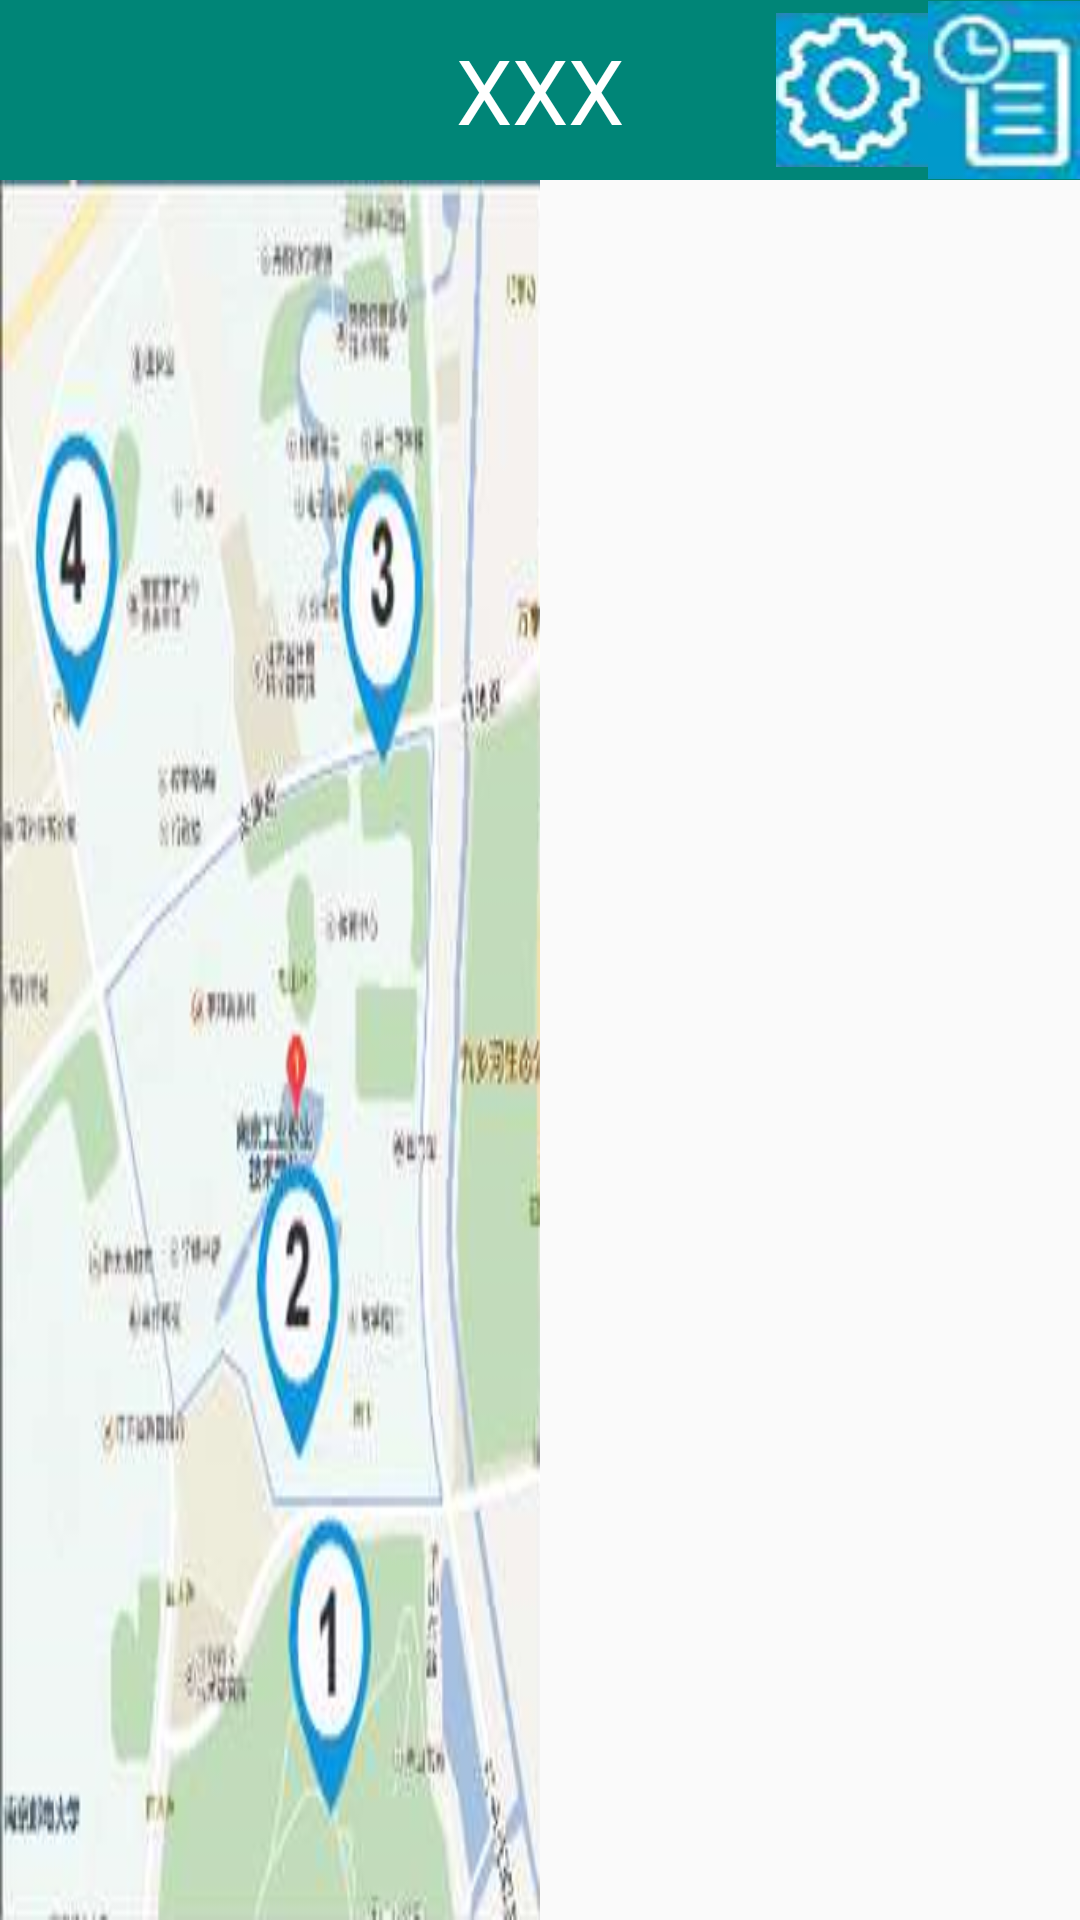

Screen size 1080 × 1920. Icon name, then its center in pixels as [x,y]:
shezhi: [852,90]
xiangqing: [1004,90]
